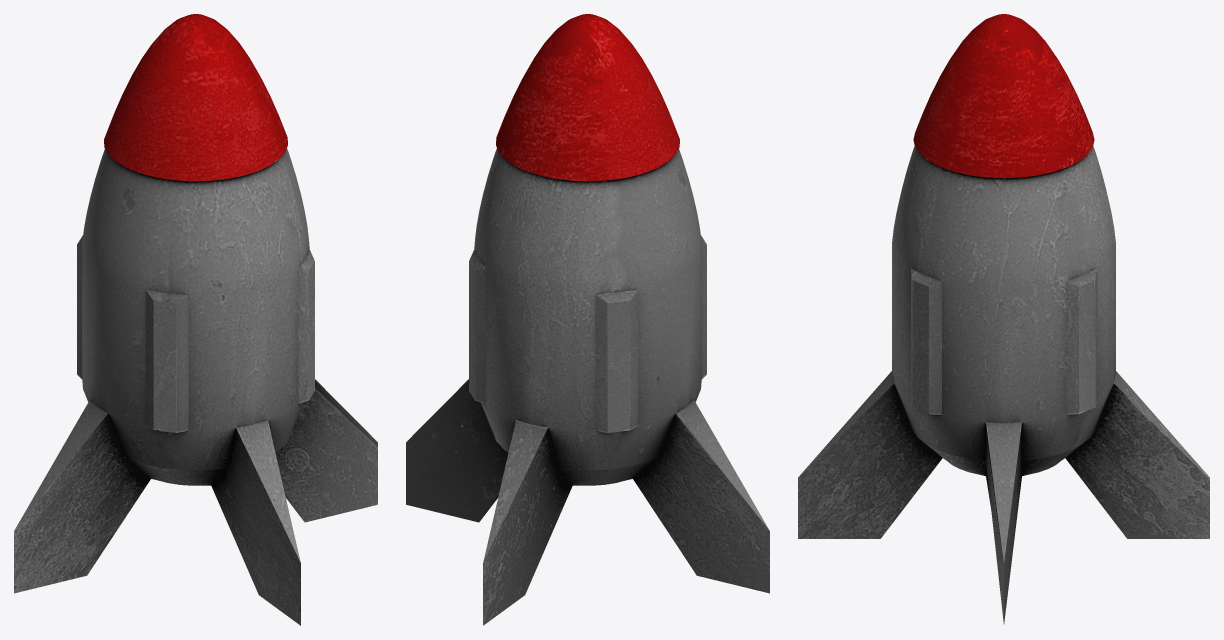
File: obj_dabomb.obj
3 views of the same model, side by side, from view 1: azimuth 30°, elevation 25°; view 2: azimuth 150°, elevation 25°; view 3: azimuth 270°, elevation 25° (orthographic).
Visible parts, largest first — view 1: Sphere_Sphere.002; view 2: Sphere_Sphere.002; view 3: Sphere_Sphere.002.
Part boxes in pixels (left/top/right/bottom): Sphere_Sphere.002: left=14, top=14, right=377, bottom=625; Sphere_Sphere.002: left=406, top=14, right=769, bottom=625; Sphere_Sphere.002: left=798, top=14, right=1209, bottom=624.
Size of the model in its own units: 3.67 by 5.13 by 3.67.
Materials: 1 (1 with a texture image).
